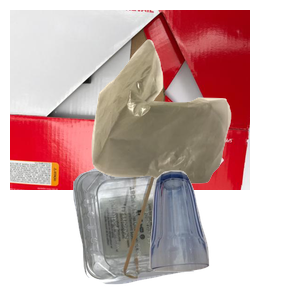cardboard: (10, 10, 250, 190)
glass: (147, 168, 300, 300)
plastic: (71, 154, 300, 300)
trash: (89, 37, 300, 213)
